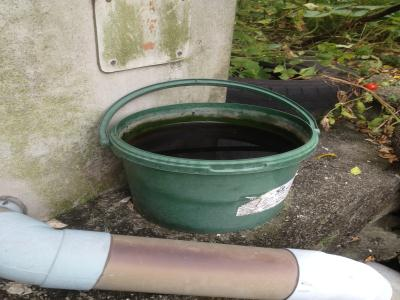bowl: (94, 76, 322, 236)
